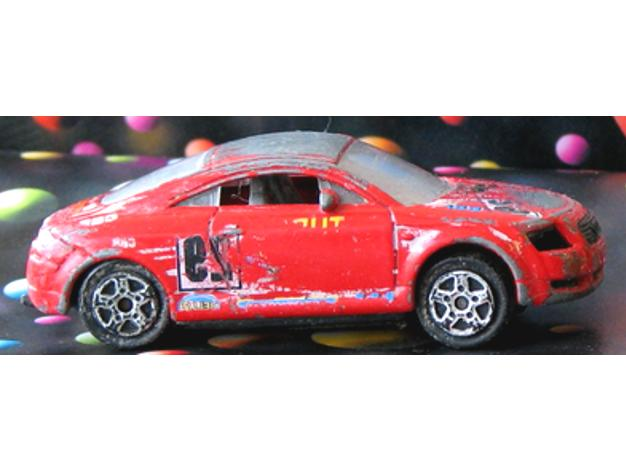toy-car: (20, 128, 608, 350)
